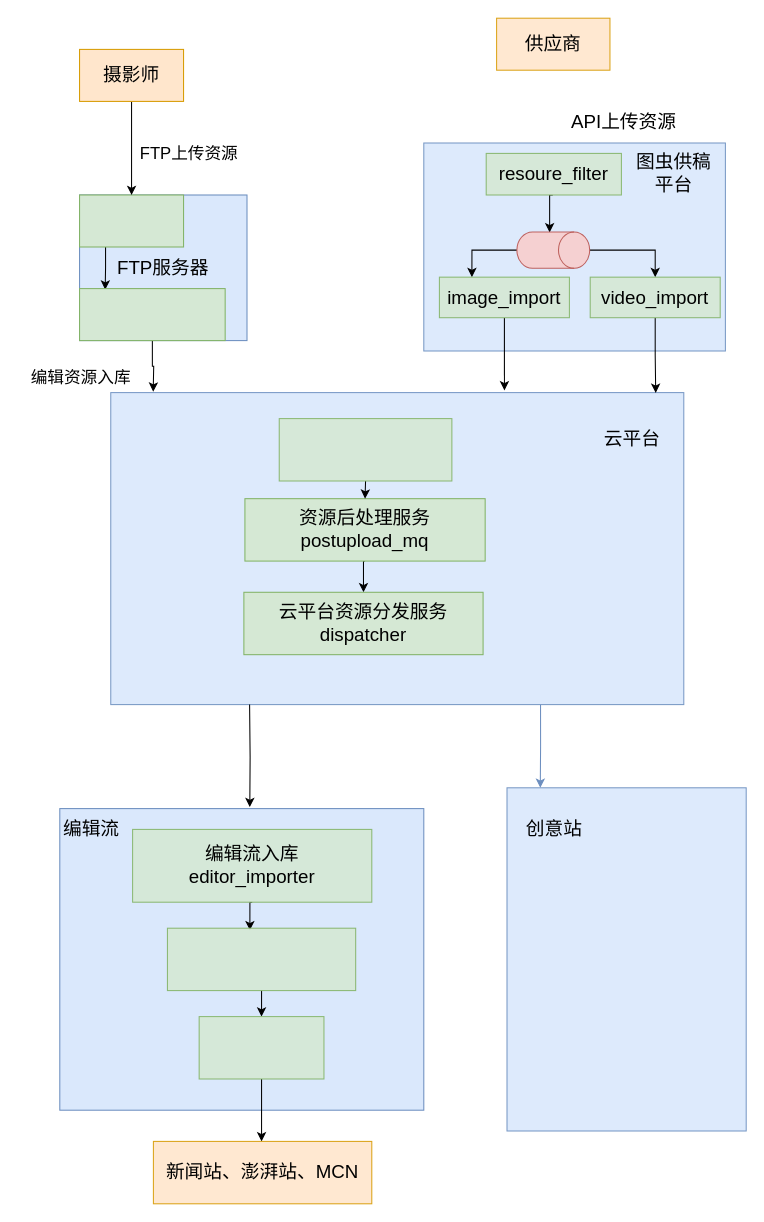
This 764x1222 diagram has some shape labels left out. Here are the shapes that lost their labels. From the top down, the centre of each, then its label:
point 131,220: Filebrowser
point 553,249: MQ
point 152,314: ftp-monitor
point 365,449: 云平台api服务 pictron.upload_http
point 261,959: 审核、聚合服务
point 261,1047: 下游分发服务
